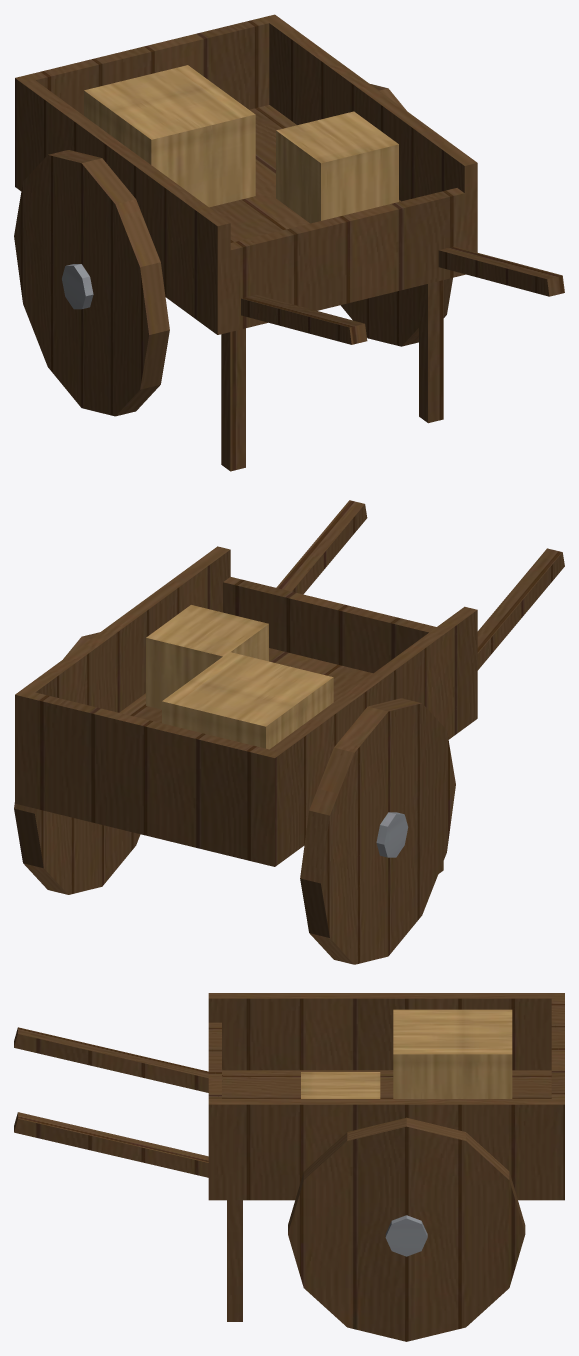
Rendered from cart.glb.
3 views of the same model, one above another, from view 1: azimuth 30°, elevation 25°; view 2: azimuth 150°, elevation 25°; view 3: azimuth 270°, elevation 25° (orthographic). The views are drawn at different scales.
Parts seen in each view (by area): view 1: prop.cart; view 2: prop.cart; view 3: prop.cart.
Boxes of the visible parts, box(x1,y1,x2,y2) form: prop.cart: box(14, 14, 564, 471); prop.cart: box(14, 500, 564, 964); prop.cart: box(14, 993, 564, 1341).
Bounding box in the file's own units: 1.24 × 0.95 × 2.09.
Materials: 3 (3 with a texture image).
